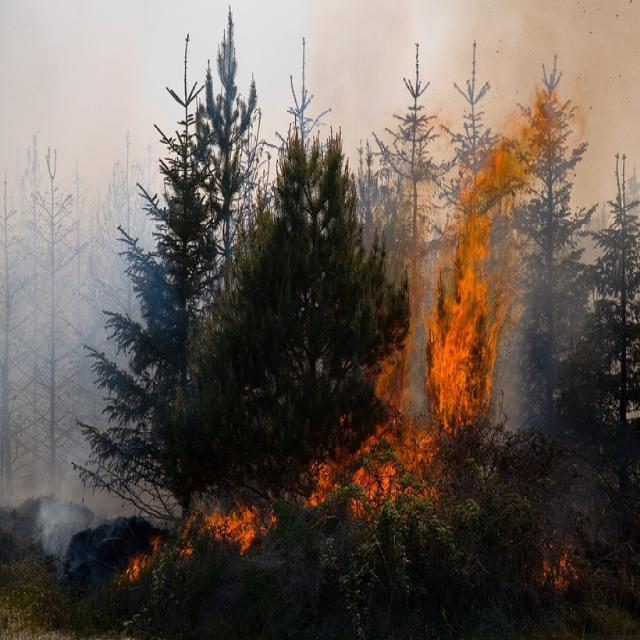Fire: (317, 120, 554, 542), (154, 491, 296, 566)
